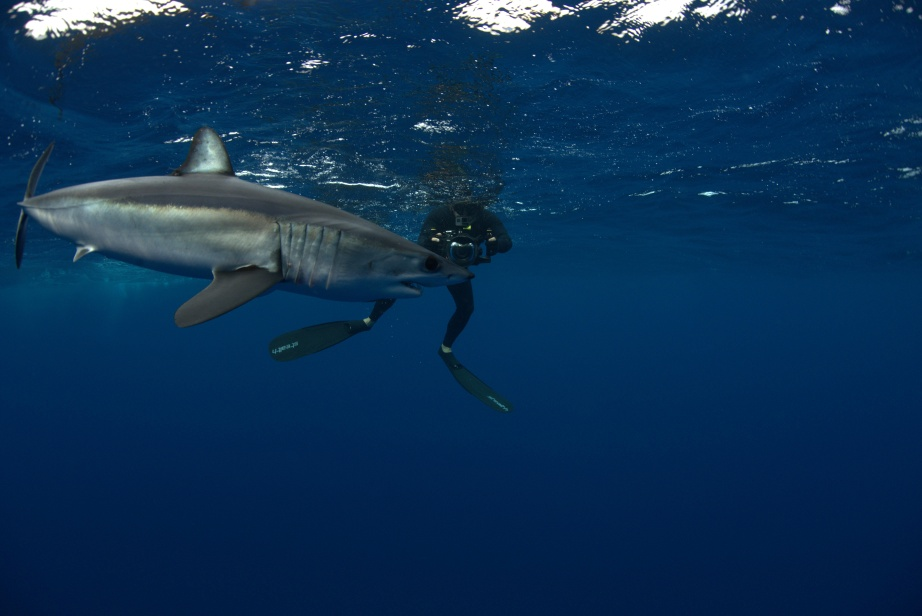Mako: (9, 125, 477, 337)
